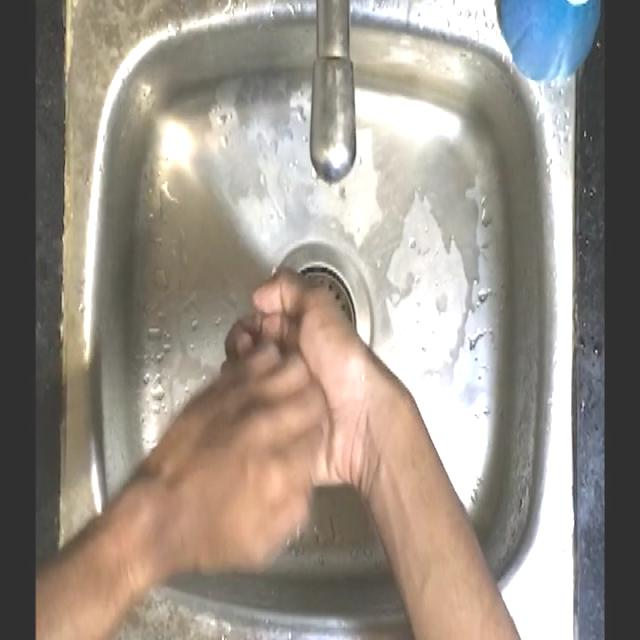step_4: (162, 273, 372, 572)
